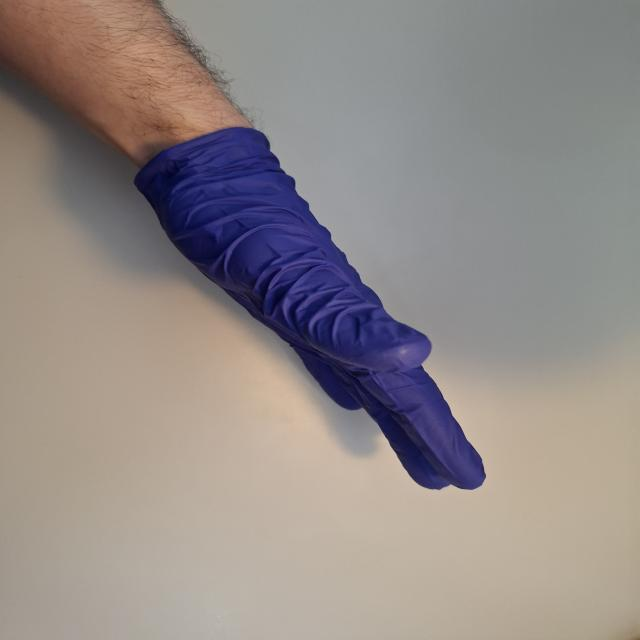glove_on: (133, 121, 489, 492)
